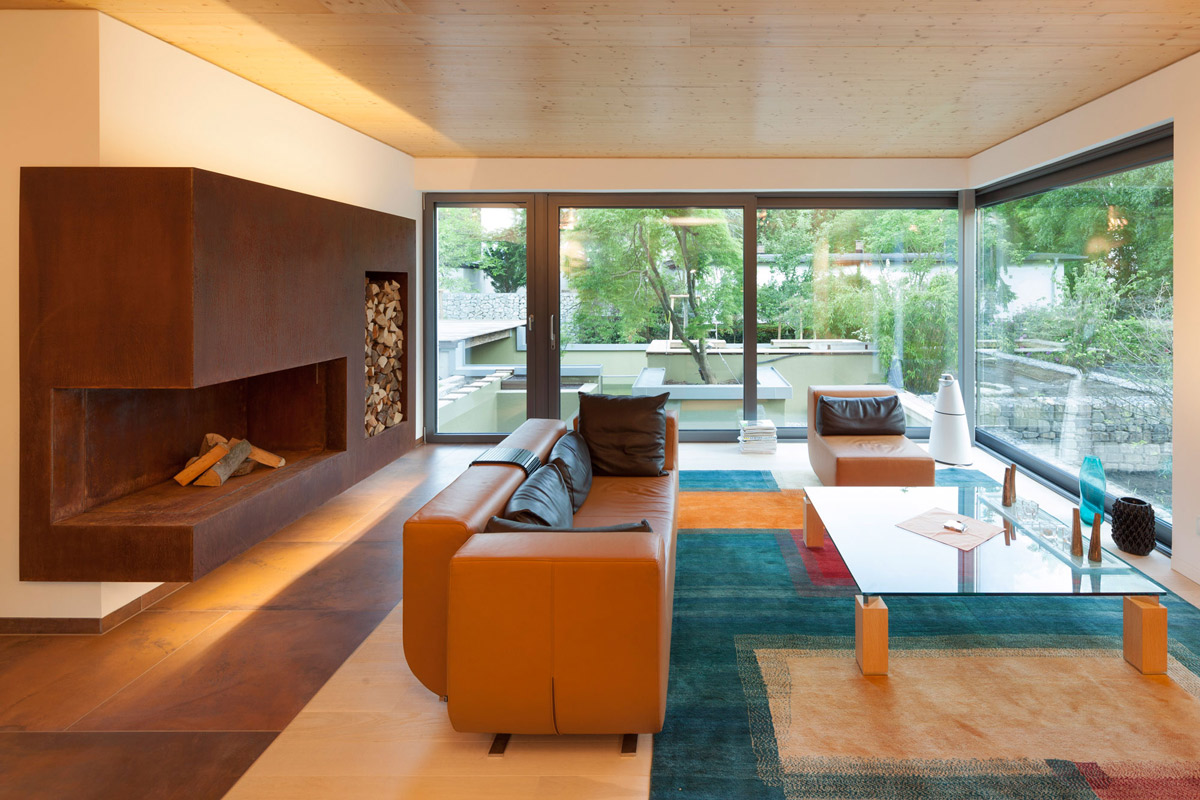biru: (1079, 454, 1106, 521)
hitam: (578, 391, 661, 474), (819, 396, 904, 436), (1111, 497, 1158, 553)
orange: (414, 522, 666, 734), (803, 386, 938, 483)
puith: (933, 380, 973, 464)
